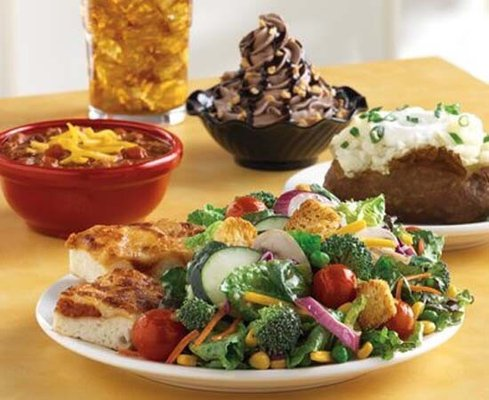curry: (221, 259, 311, 322), (244, 305, 309, 368), (190, 321, 250, 371)
sushi: (185, 12, 369, 171), (0, 117, 184, 240)
